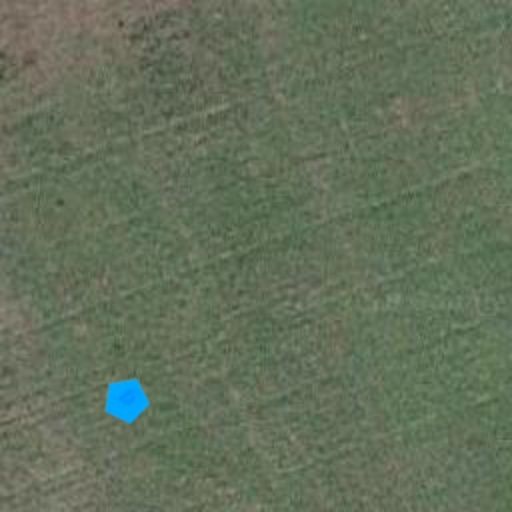pentagon: (90, 364, 162, 436)
